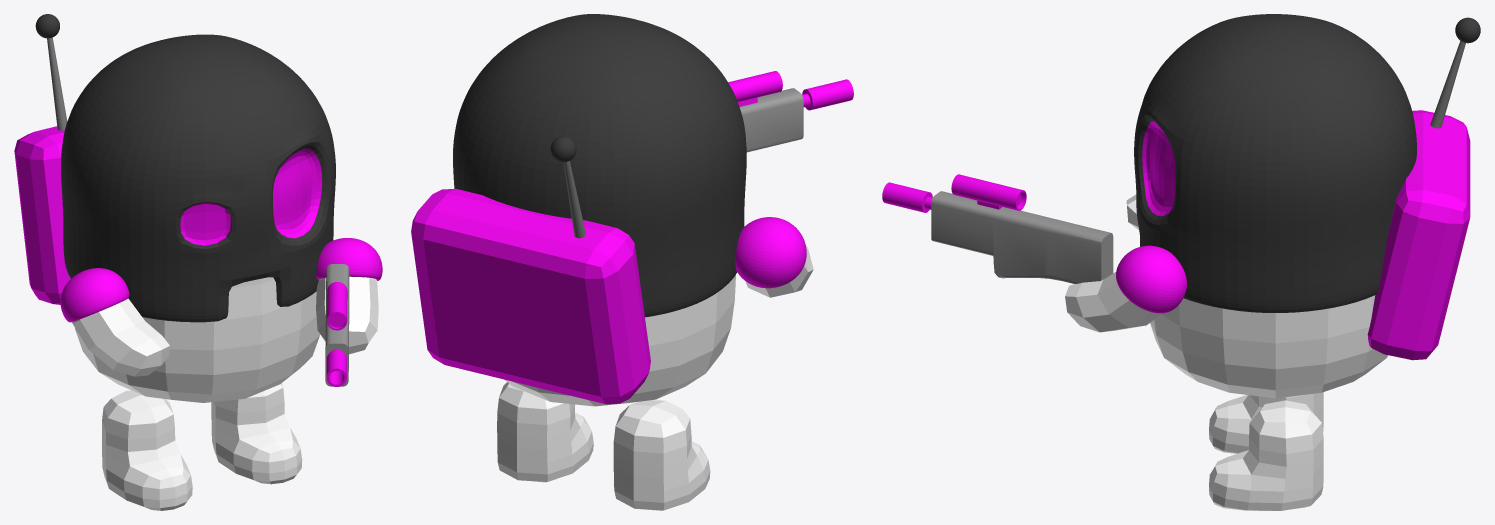
File: Ghost.fbx
3 views of the same model, side by side, from view 1: azimuth 30°, elevation 25°; view 2: azimuth 150°, elevation 25°; view 3: azimuth 270°, elevation 25° (orthographic). The views are drawn at different scales.
Visible parts, largest first — view 1: Cube.026, Cube.025, Cube.027, Cube.028, Cube.029, Cube.065, Cube.031, Cube.030, Cylinder.010, Cylinder.007, Cylinder.009, Sphere.007; view 2: Cube.026, Cube.029, Cube.027, Cube.025, Cube.065, Cube.028, Cube.030, Cylinder.010, Cylinder.009, Cylinder.007, Sphere.007; view 3: Cube.026, Cube.025, Cube.029, Cube.030, Cube.065, Cube.031, Cube.027, Cylinder.010, Cylinder.009, Cylinder.007.
Part boxes in pixels (x1,y1,x2,y2): Cube.026: [61, 34, 335, 322]; Cube.025: [70, 277, 319, 402]; Cube.027: [102, 390, 192, 510]; Cube.028: [60, 268, 169, 376]; Cube.029: [14, 126, 70, 304]; Cube.065: [211, 383, 302, 484]; Cube.031: [316, 238, 382, 354]; Cube.030: [325, 264, 349, 386]; Cylinder.010: [327, 282, 347, 330]; Cylinder.007: [47, 37, 67, 130]; Cylinder.009: [326, 350, 346, 386]; Sphere.007: [35, 14, 59, 38]; Cube.026: [453, 14, 746, 317]; Cube.029: [411, 188, 650, 404]; Cube.027: [613, 400, 710, 510]; Cube.025: [504, 275, 735, 406]; Cube.065: [497, 382, 593, 482]; Cube.028: [735, 217, 813, 297]; Cube.030: [739, 88, 803, 152]; Cylinder.010: [728, 71, 782, 106]; Cylinder.009: [802, 79, 853, 110]; Cylinder.007: [563, 161, 585, 238]; Sphere.007: [550, 136, 576, 162]; Cube.026: [1134, 14, 1416, 312]; Cube.025: [1150, 295, 1387, 398]; Cube.029: [1367, 110, 1470, 360]; Cube.030: [931, 191, 1113, 283]; Cube.065: [1209, 400, 1323, 510]; Cube.031: [1065, 245, 1186, 332]; Cube.027: [1209, 392, 1323, 453]; Cylinder.010: [951, 174, 1026, 210]; Cylinder.009: [882, 182, 932, 212]; Cylinder.007: [1430, 41, 1465, 128].
Size of the model in its own units: 88.42 by 128 by 156.
